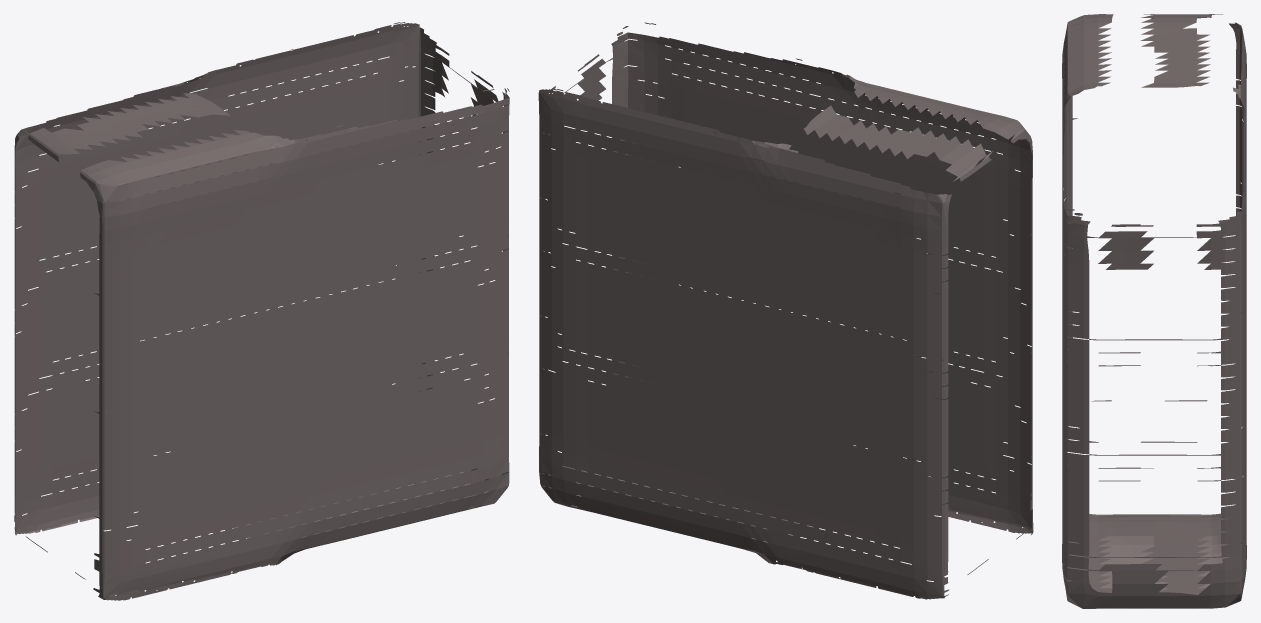
3 views of the same model, side by side, from view 1: azimuth 30°, elevation 25°; view 2: azimuth 150°, elevation 25°; view 3: azimuth 270°, elevation 25° (orthographic). The views are drawn at different scales.
Visible parts, largest first — view 1: reconstruction; view 2: reconstruction; view 3: reconstruction.
Part boxes in pixels (left/top/right/bottom): reconstruction: left=14, top=22, right=509, bottom=600; reconstruction: left=538, top=22, right=1033, bottom=599; reconstruction: left=1062, top=14, right=1246, bottom=608.
Bounding box in the file's own units: 0.9708 × 1 × 0.3804.
1 material, 1 textured.
